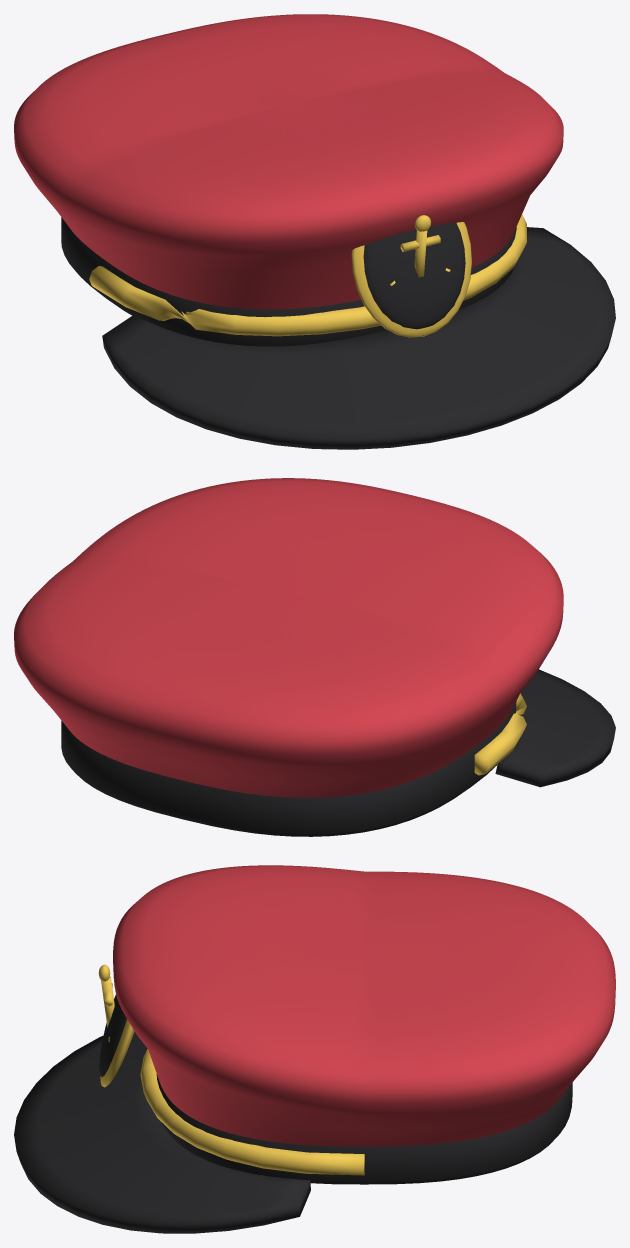
File: CaptainHat.glb
The picture shows the model from 3 angles, top to bottom: view 1: azimuth 30°, elevation 25°; view 2: azimuth 150°, elevation 25°; view 3: azimuth 270°, elevation 25°; orthographic projection. The views are drawn at different scales.
Parts seen in each view (by area): view 1: CaptainHat; view 2: CaptainHat; view 3: CaptainHat.
Part boxes in pixels (x1,y1,x2,y2): CaptainHat: [14, 14, 615, 449]; CaptainHat: [14, 478, 615, 836]; CaptainHat: [14, 865, 615, 1233].
Bounding box in the file's own units: 1.8 × 0.7983 × 2.1.
